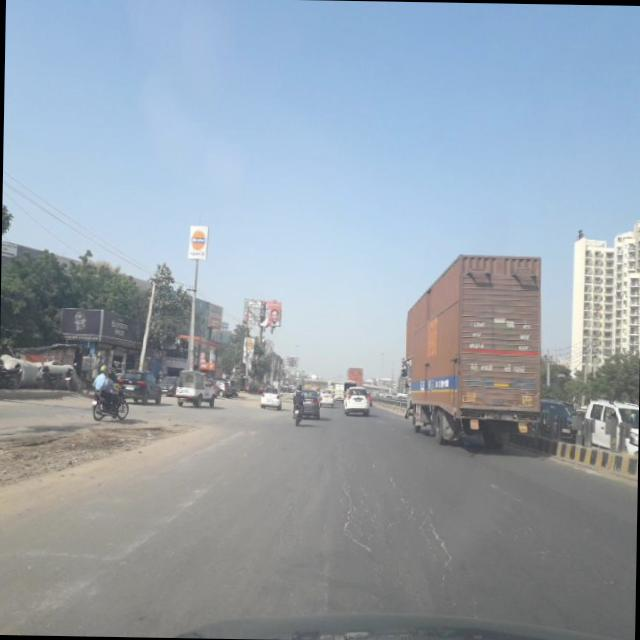crack: (318, 431, 462, 567)
